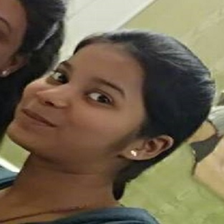no_mask: (11, 43, 141, 162)
